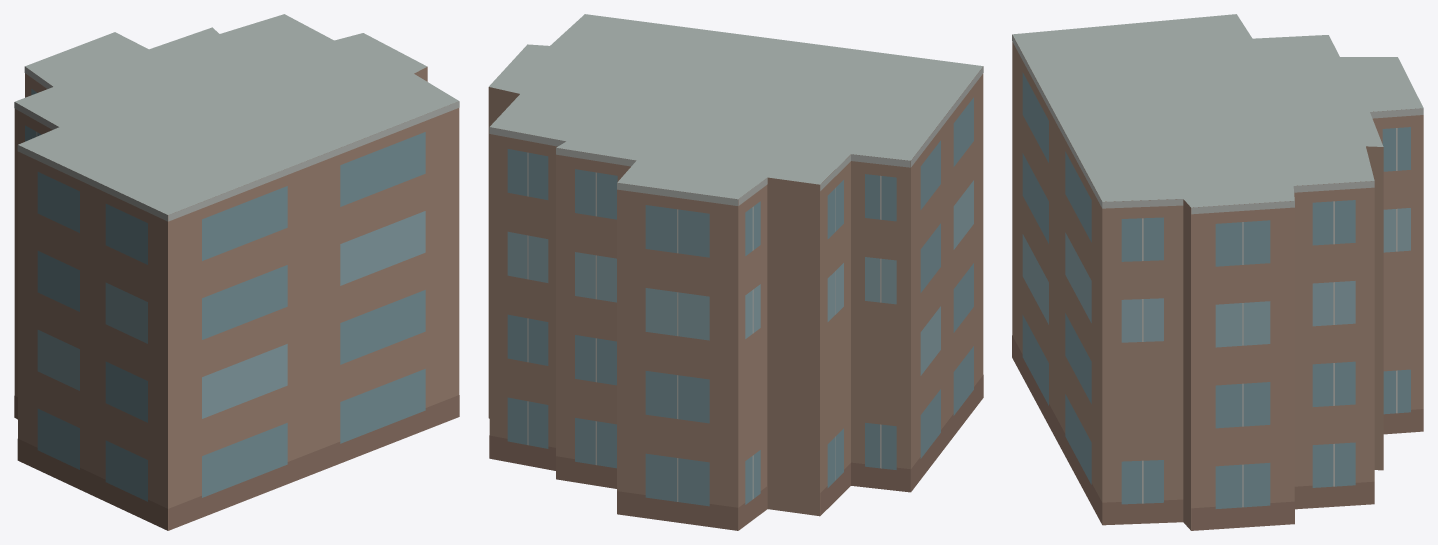
The model's file is survey-upis-32652380.glb.
3 views of the same model, side by side, from view 1: azimuth 30°, elevation 25°; view 2: azimuth 150°, elevation 25°; view 3: azimuth 270°, elevation 25° (orthographic). The views are drawn at different scales.
Visible parts, largest first — view 1: survey-upis-32652380.tmp; view 2: survey-upis-32652380.tmp; view 3: survey-upis-32652380.tmp.
Boxes of the visible parts, x1,y1,x2,y2 form: survey-upis-32652380.tmp: [14, 14, 459, 530]; survey-upis-32652380.tmp: [488, 14, 983, 530]; survey-upis-32652380.tmp: [1012, 14, 1423, 530].
Size of the model in its own units: 15.03 by 11.7 by 13.51.
